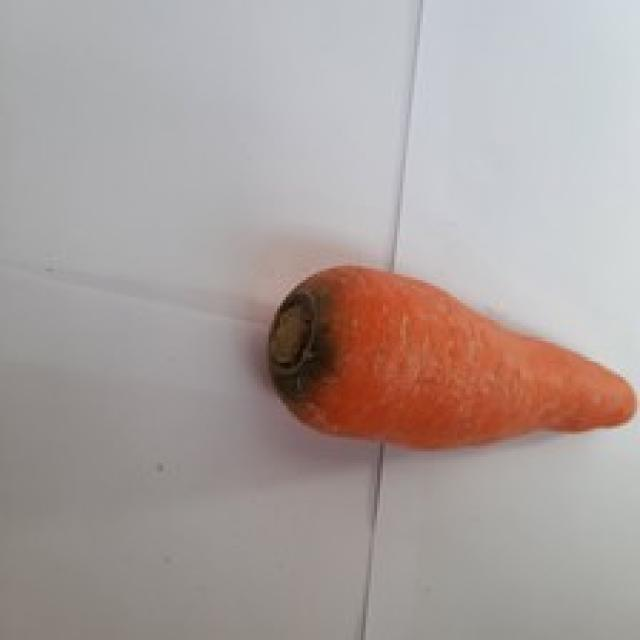carrot: (270, 266, 635, 448)
